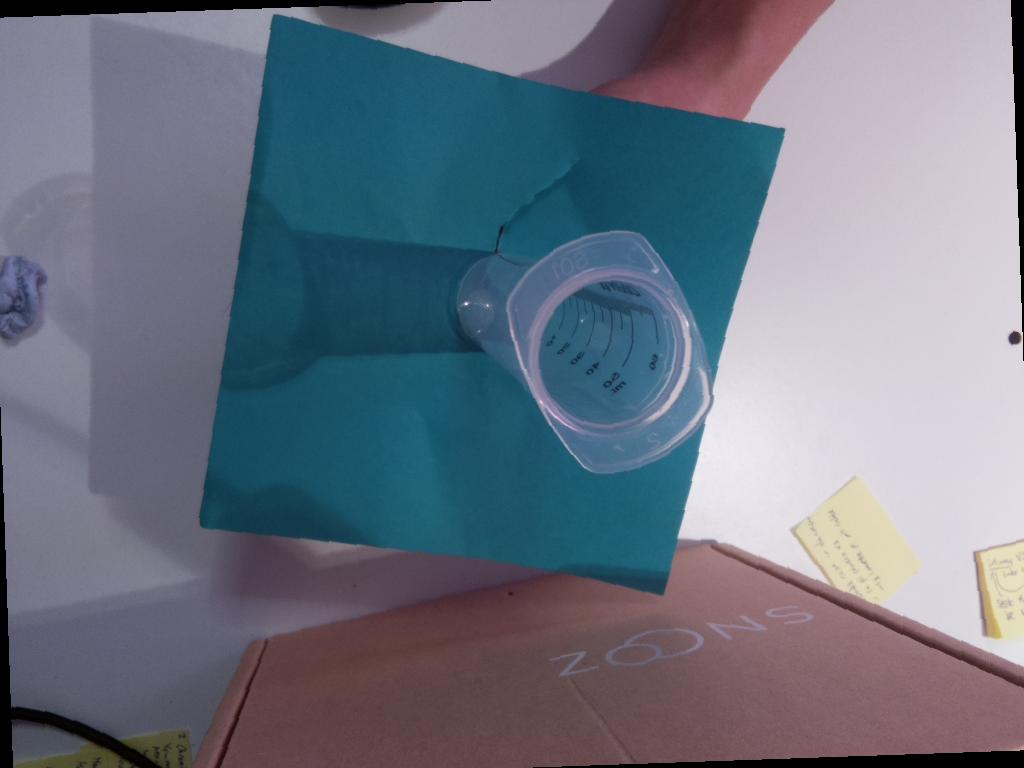clean: (503, 230, 713, 472)
